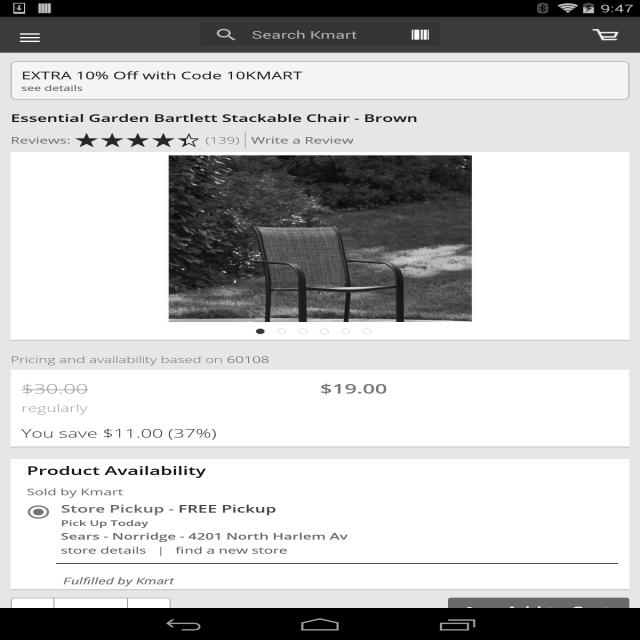Button: (128, 598, 171, 624), (11, 598, 53, 624)
EditText: (54, 606, 127, 619)
ImageButton: (0, 20, 60, 56)
ImageView: (134, 156, 506, 388), (200, 23, 252, 46), (56, 563, 618, 564), (592, 29, 619, 40), (412, 30, 429, 40)
RadioButton: (22, 501, 56, 523)
RatingBar: (70, 132, 198, 148)
TextView: (11, 104, 629, 129), (21, 459, 630, 482), (21, 482, 630, 501), (58, 571, 629, 590), (21, 425, 619, 441), (11, 353, 629, 366), (320, 380, 619, 398), (21, 380, 320, 397), (21, 401, 320, 415), (21, 68, 302, 82), (61, 530, 351, 542), (495, 598, 621, 624), (61, 501, 276, 516), (252, 23, 357, 46), (175, 544, 288, 556), (246, 134, 353, 146), (61, 544, 146, 556), (456, 598, 495, 624), (61, 518, 148, 528), (21, 82, 83, 94), (11, 134, 70, 146), (198, 134, 240, 146), (157, 544, 165, 556), (127, 598, 128, 624), (54, 598, 54, 624)
